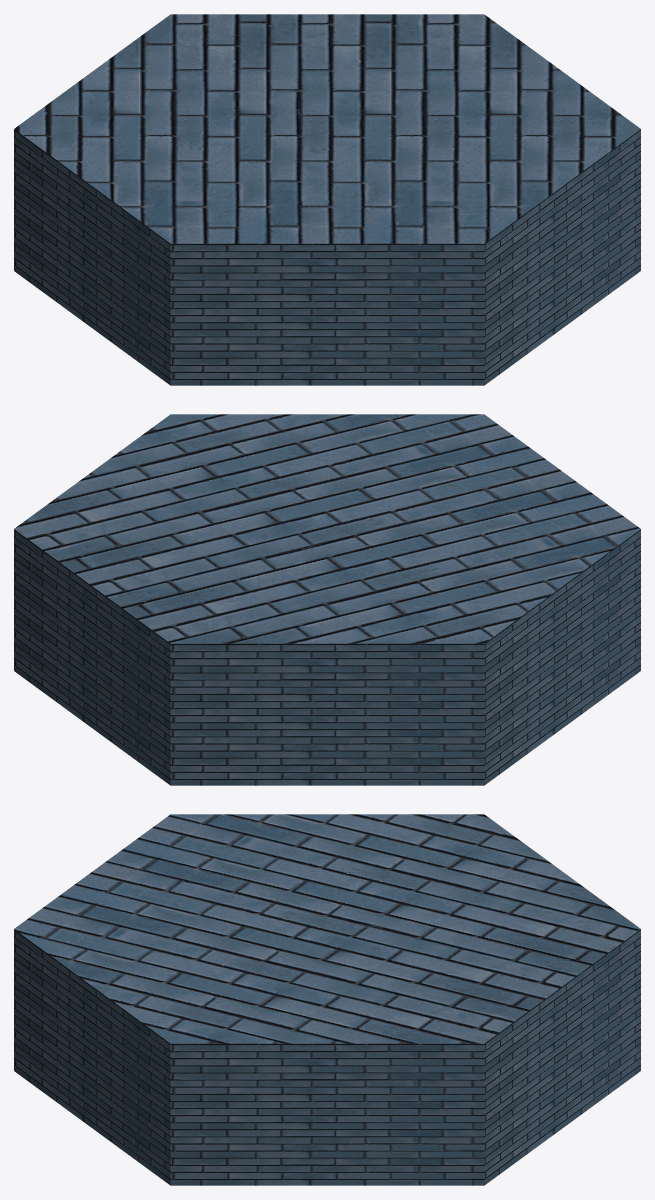
File: hexa 1.fbx
3 views of the same model, one above another, from view 1: azimuth 30°, elevation 25°; view 2: azimuth 150°, elevation 25°; view 3: azimuth 270°, elevation 25° (orthographic).
Visible parts, largest first — view 1: Circle; view 2: Circle; view 3: Circle.
Part boxes in pixels (x1,y1,x2,y2): Circle: (14, 14, 640, 385); Circle: (14, 414, 640, 785); Circle: (14, 814, 640, 1185).
Bounding box in the file's own units: 1732 × 500 × 2000.
